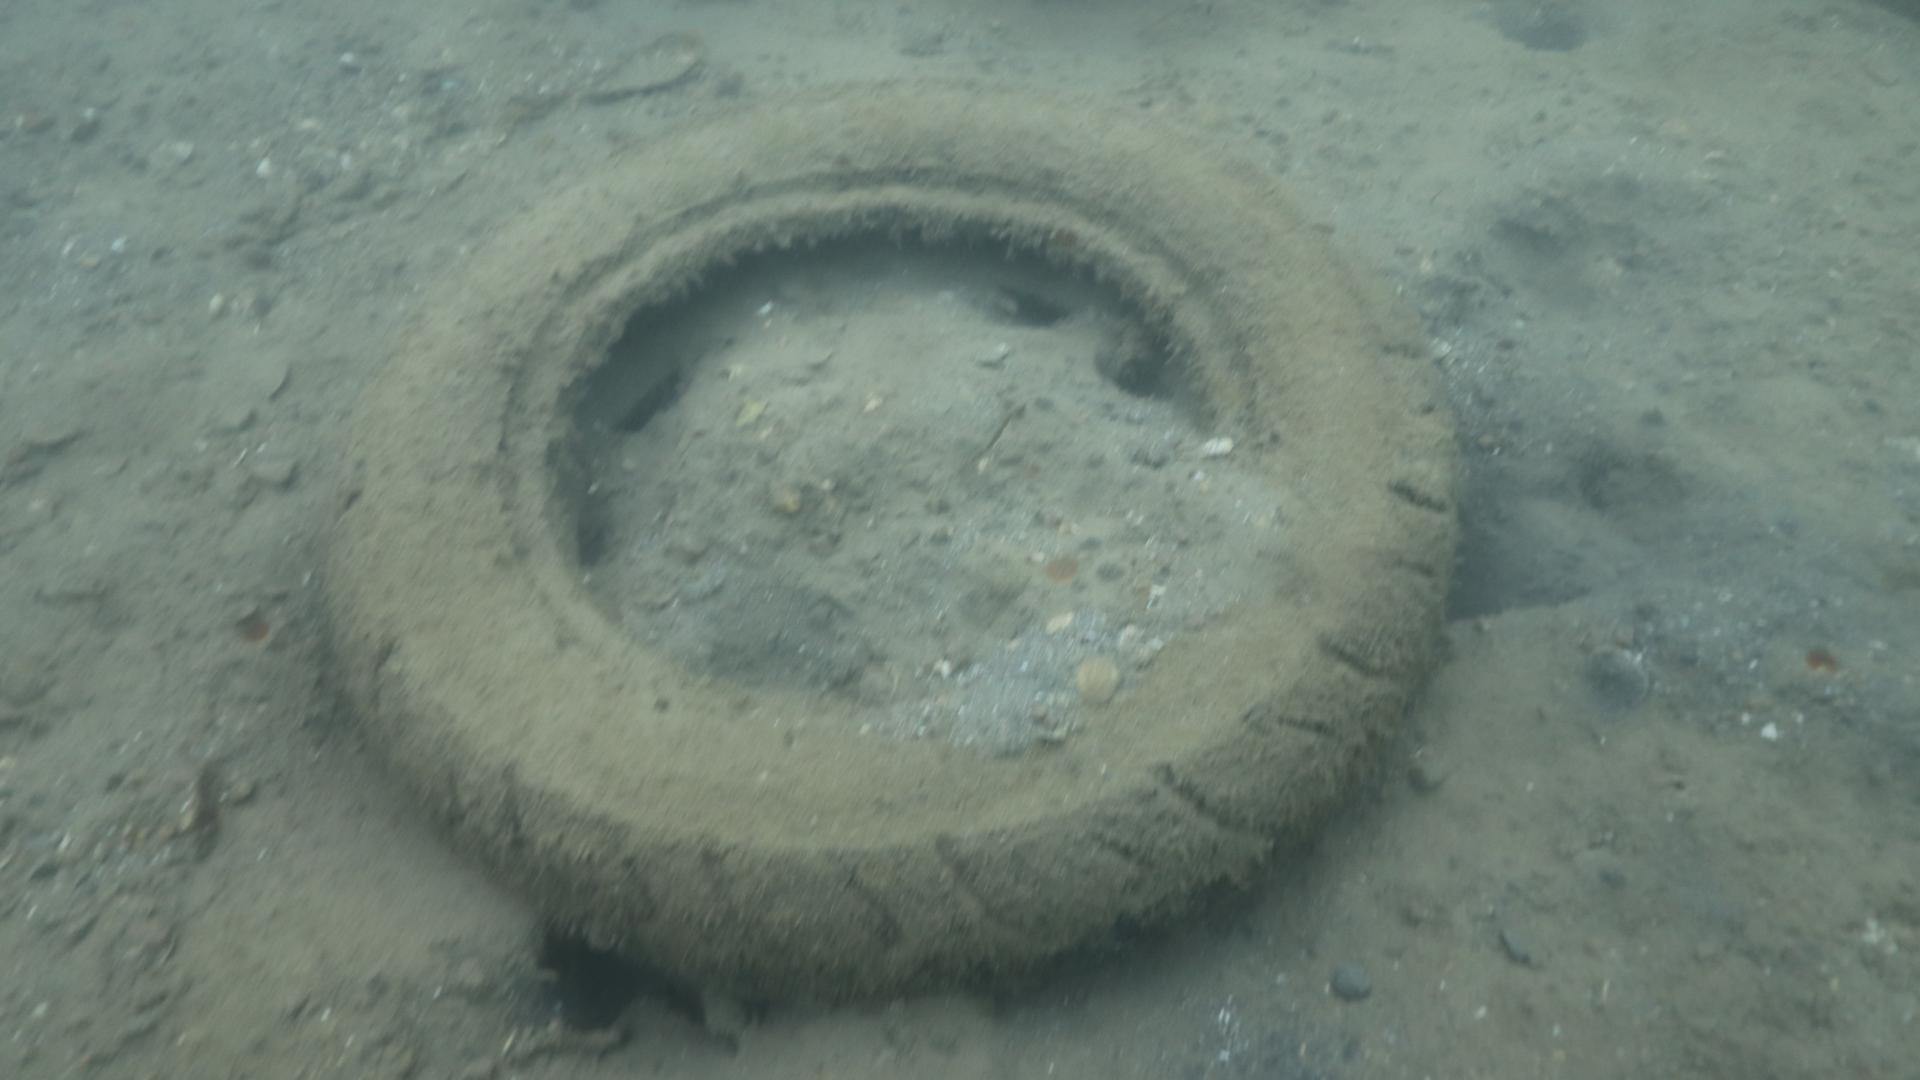tire: (323, 73, 1460, 1015)
